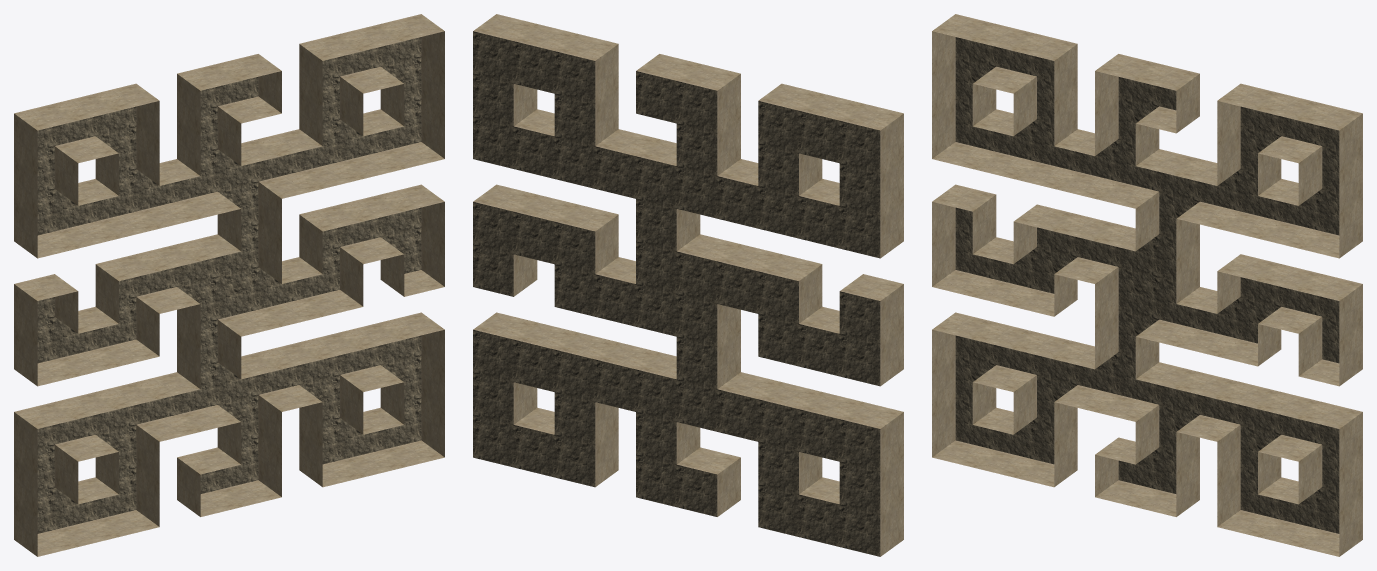
The model's file is zigzag.obj.
The picture shows the model from 3 angles, left to right: view 1: azimuth 30°, elevation 25°; view 2: azimuth 150°, elevation 25°; view 3: azimuth 330°, elevation 25°; orthographic projection.
Bounding box in the file's own units: 10 × 10 × 1.
